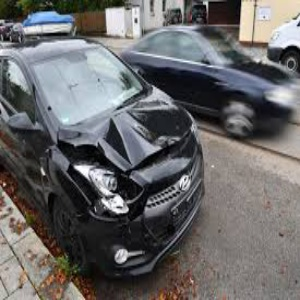bonnet: (80, 95, 192, 171)
